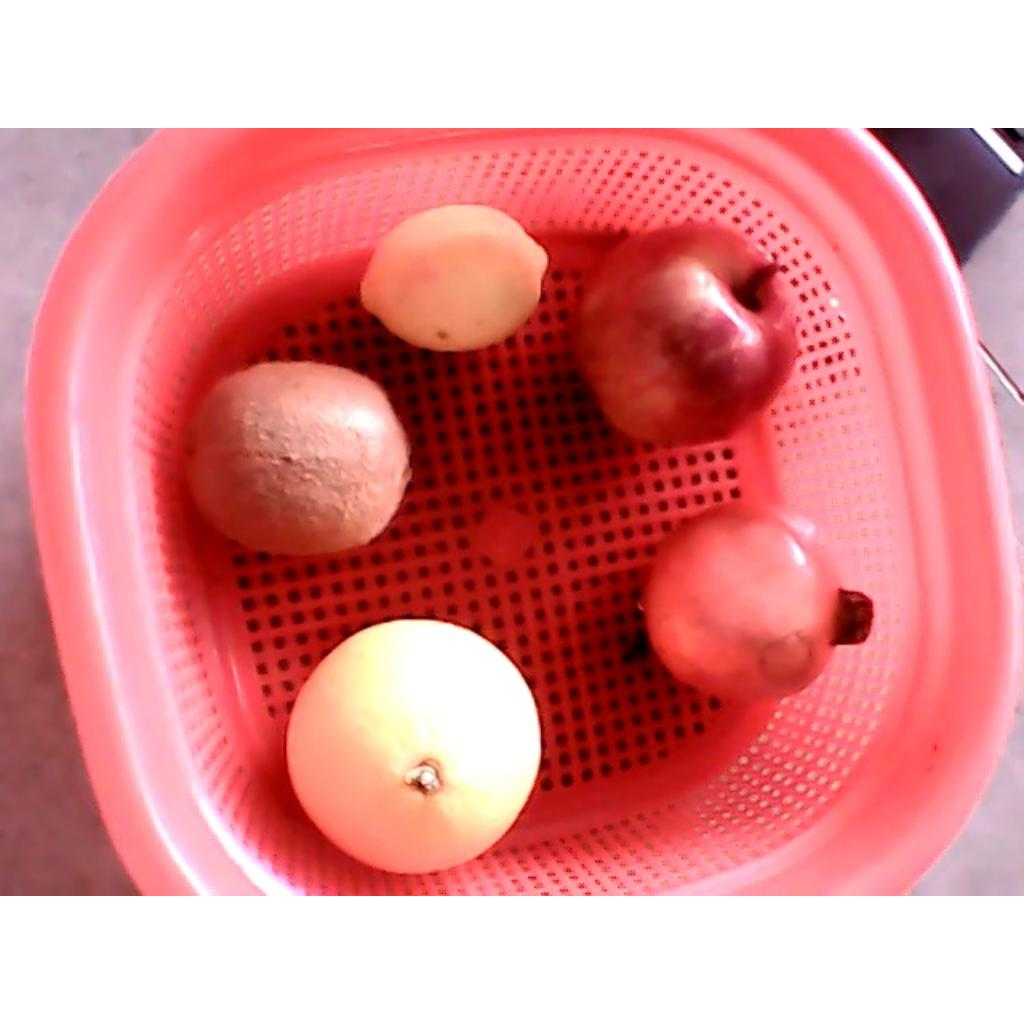apple: (569, 221, 799, 449)
kiwi: (175, 359, 412, 556)
lemon: (360, 205, 549, 352)
orange: (284, 618, 542, 876)
pomegranate: (638, 496, 875, 706)
